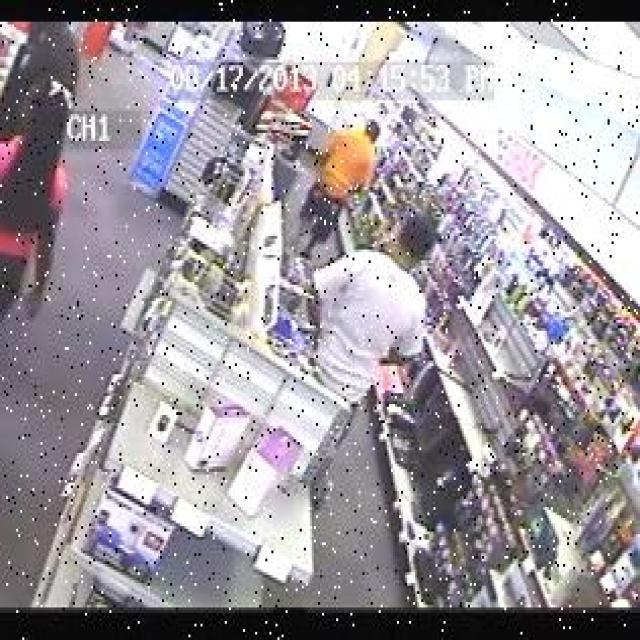Shoplifting: (295, 110, 467, 511)
